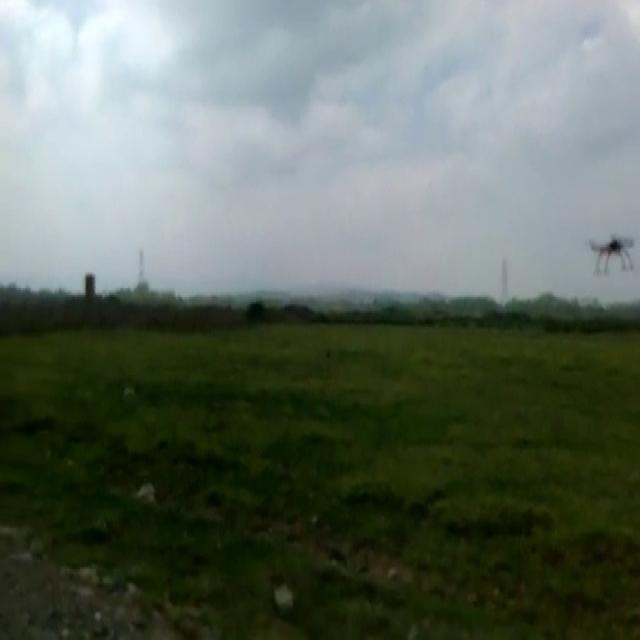drone: (586, 229, 635, 274)
